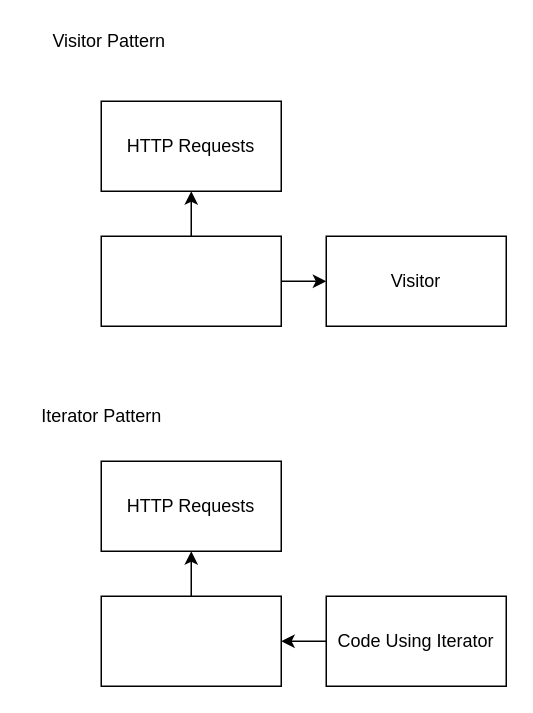
Some shapes in this 533 by 713 pixel diagram are drawn without their labels. The shapes that lost their labels are listed below. From the top down, each one's box as (x1, y1, x2, y2) in pixels, then its label:
(100, 235, 281, 326): Visitor Engine
(100, 595, 281, 686): Iterator
